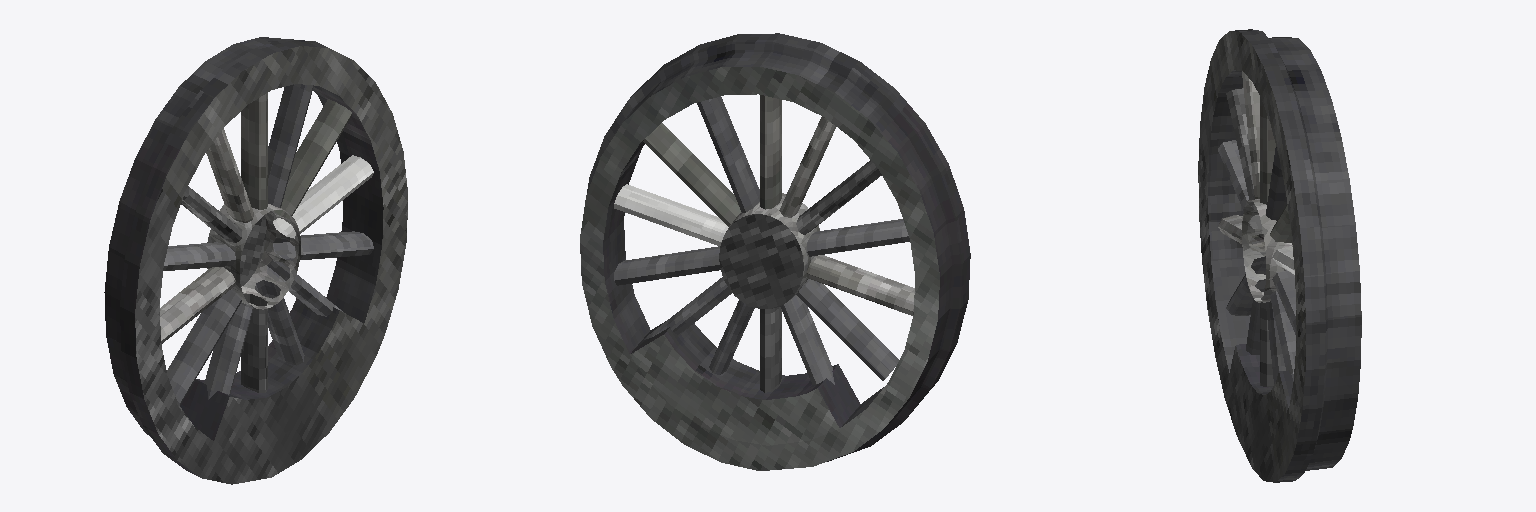
The picture shows the model from 3 angles: view 1: azimuth 30°, elevation 25°; view 2: azimuth 150°, elevation 25°; view 3: azimuth 270°, elevation 25°; orthographic projection.
Visible parts, largest first — view 1: LlantaIzq2; view 2: LlantaIzq2; view 3: LlantaIzq2.
Part boxes in pixels (x1,y1,x2,y2): LlantaIzq2: (104, 37, 407, 484); LlantaIzq2: (580, 33, 970, 470); LlantaIzq2: (1198, 29, 1361, 482).
Size of the model in its own units: 0.3189 by 0.3903 by 0.1364.
Materials: 1 (1 with a texture image).